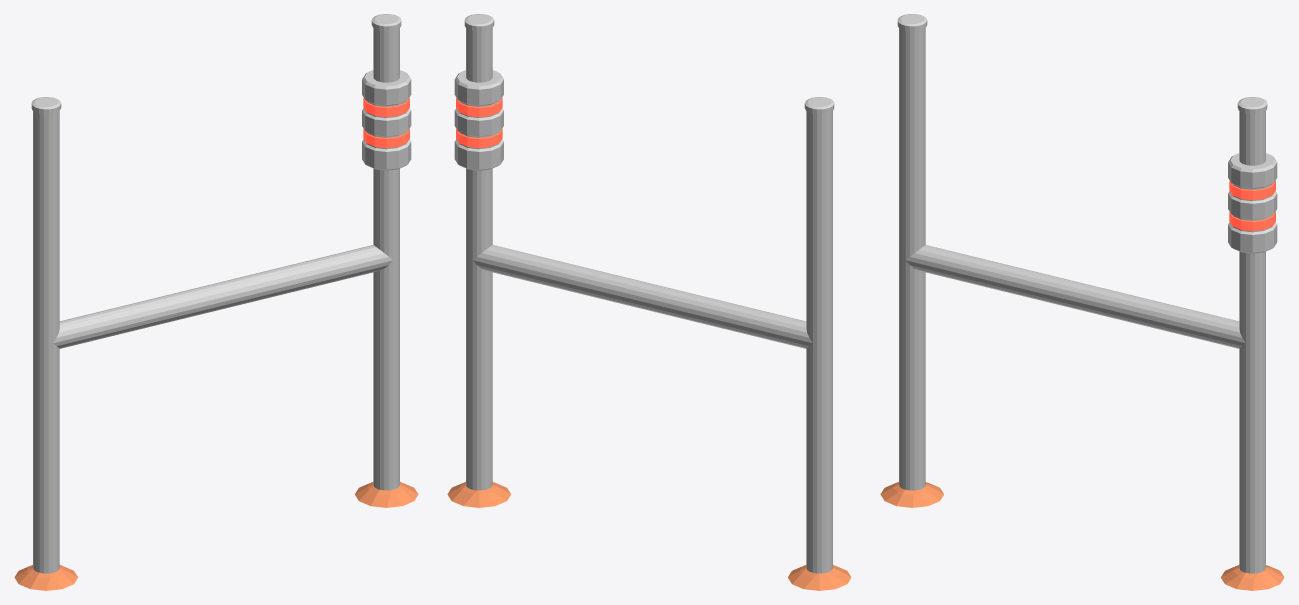
3 renders of one model, left to right at view 1: azimuth 30°, elevation 25°; view 2: azimuth 150°, elevation 25°; view 3: azimuth 330°, elevation 25°, orthographic.
Visible parts, largest first — view 1: Post; view 2: Post; view 3: Post.
Part boxes in pixels (box(x1,y1,x2,y2)): Post: box(14, 14, 418, 590); Post: box(447, 14, 851, 590); Post: box(880, 14, 1284, 590).
Bounding box in the file's own units: 930 × 1068 × 130.
